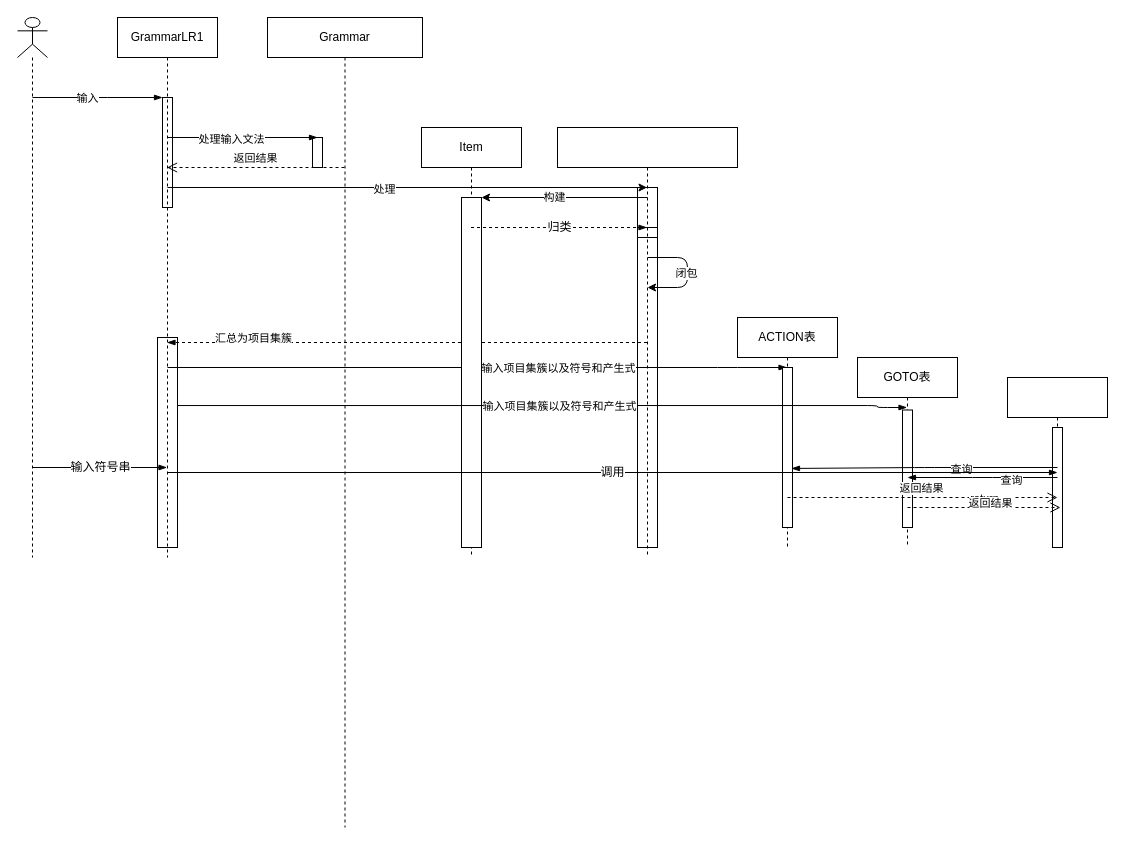
The diagram is 1125 pixels wide and 845 high, and some of its shapes have lost their labels. Each missing label, with the box of its shape:
ItemSet: (556, 126, 738, 558)
总控程序: (1006, 376, 1108, 548)
输入文法: (16, 16, 48, 558)
